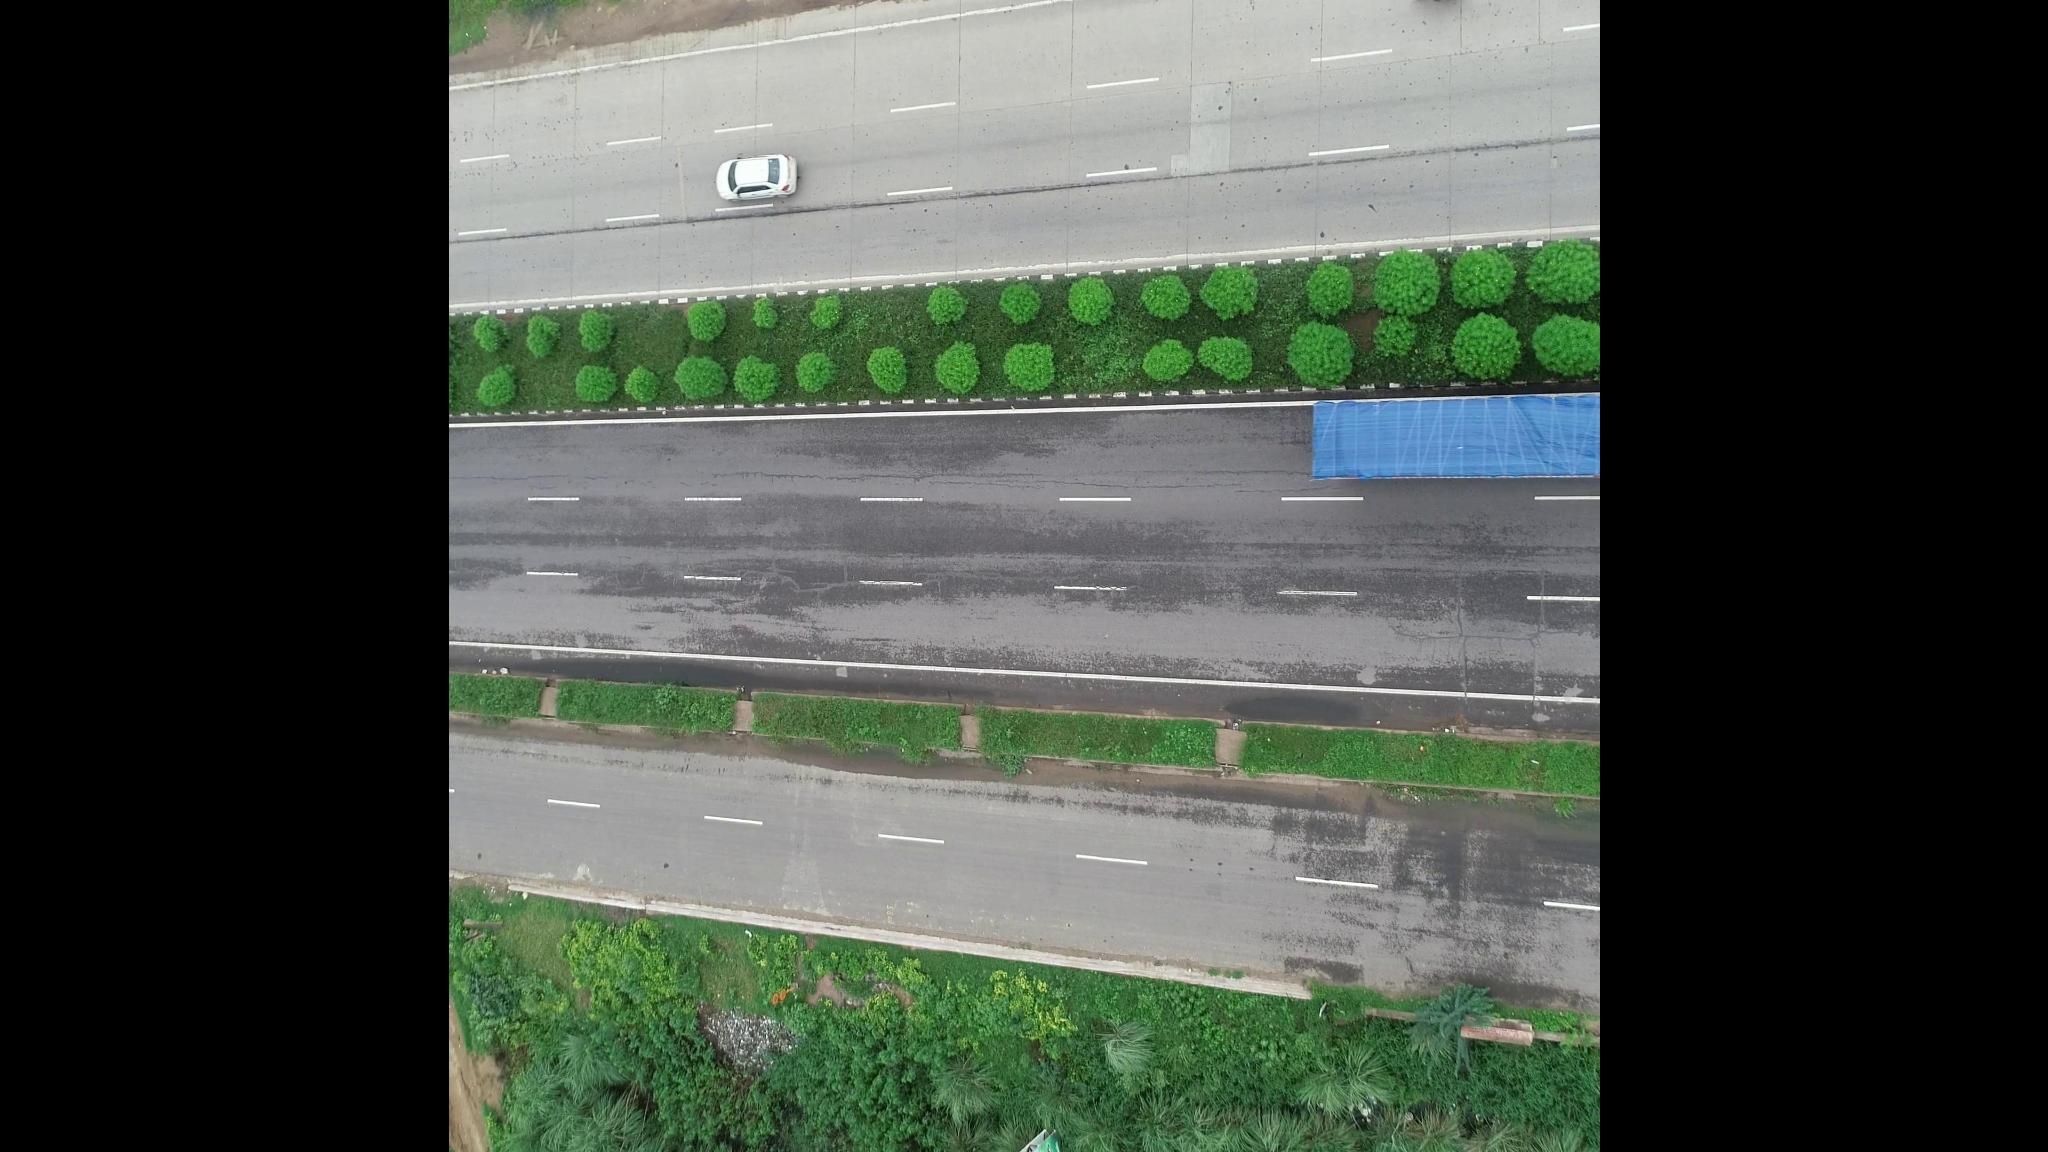Cracks: (717, 468, 1262, 499)
